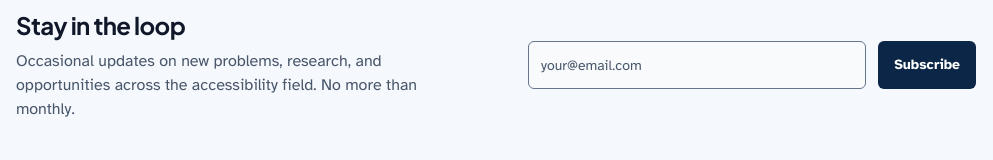
NewsletterSection › subscribes through the RPC, not a table insert
Type "  Someone@Example.org " into the field named "Email address" at [697, 65], box [528, 41, 866, 89]
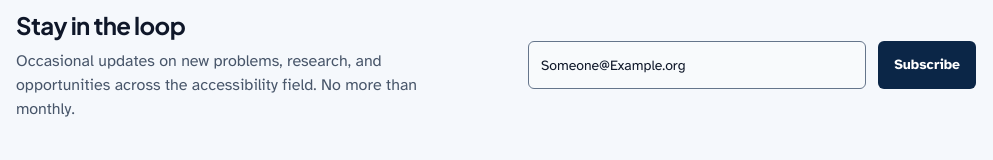
Click the button "Subscribe" at [927, 65], box [878, 41, 976, 89]
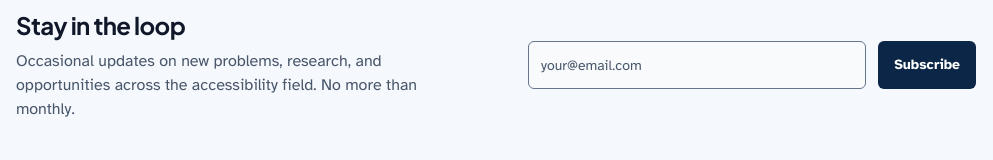
Check: the field named "Email address" is empty, box [528, 41, 866, 89]
